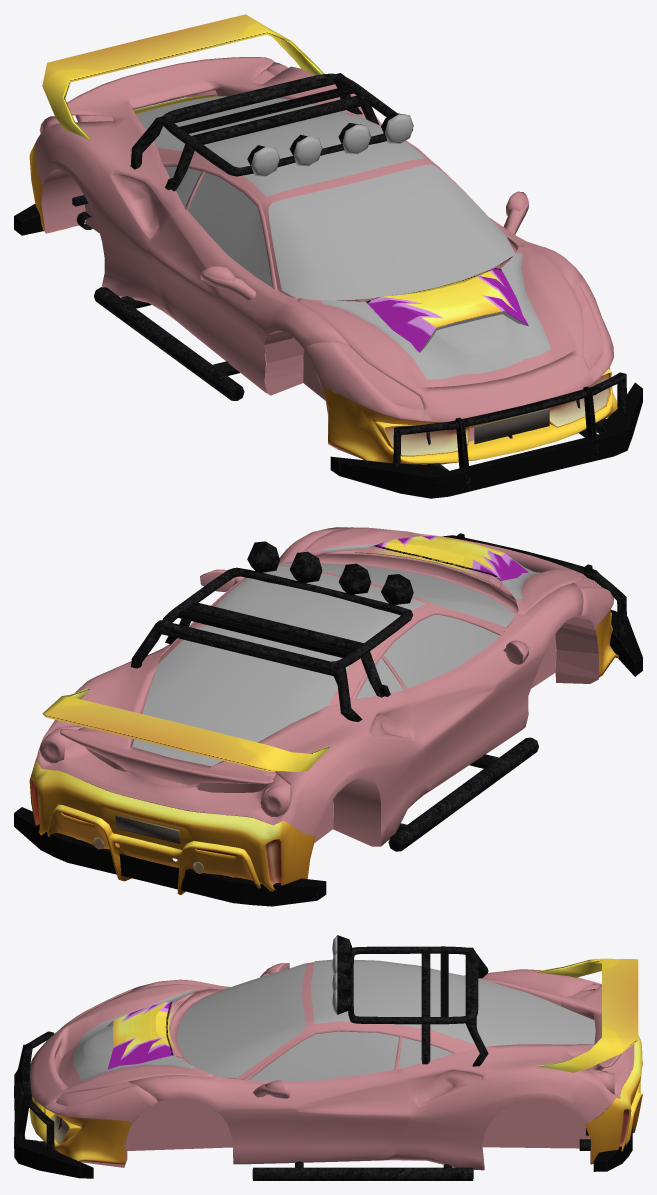
File: Ferrari_488New.fbx
The picture shows the model from 3 angles, top to bottom: view 1: azimuth 30°, elevation 25°; view 2: azimuth 150°, elevation 25°; view 3: azimuth 270°, elevation 25°; orthographic projection. The views are drawn at different scales.
Parts seen in each view (by area): view 1: polySurface10, pasted__pasted__polySurface31, ferrari_carbon2, pasted__pasted__polySurface33, bumperFront, spoiler, exportobj2:ferrari_airtake, bumperBack; view 2: polySurface10, pasted__pasted__polySurface31, bumperBack, pasted__pasted__polySurface33, ferrari_carbon2, spoiler, exportobj2:ferrari_airtake, bumperFront; view 3: polySurface10, pasted__pasted__polySurface31, ferrari_carbon2, spoiler, pasted__pasted__polySurface33, bumperFront, exportobj2:ferrari_airtake, bumperBack.
Part boxes in pixels (bbox=[...]): polySurface10: bbox=[35, 57, 613, 457]; pasted__pasted__polySurface31: bbox=[94, 73, 413, 400]; ferrari_carbon2: bbox=[209, 115, 551, 379]; pasted__pasted__polySurface33: bbox=[14, 204, 642, 498]; bumperFront: bbox=[322, 368, 617, 464]; spoiler: bbox=[42, 14, 324, 139]; exportobj2:ferrari_airtake: bbox=[355, 264, 528, 352]; bumperBack: bbox=[29, 94, 218, 233]; polySurface10: bbox=[35, 527, 613, 858]; pasted__pasted__polySurface31: bbox=[130, 541, 538, 851]; bumperBack: bbox=[29, 760, 315, 894]; pasted__pasted__polySurface33: bbox=[14, 533, 642, 906]; ferrari_carbon2: bbox=[215, 543, 540, 642]; spoiler: bbox=[42, 688, 329, 771]; exportobj2:ferrari_airtake: bbox=[355, 536, 528, 587]; bumperFront: bbox=[595, 609, 618, 677]; polySurface10: bbox=[30, 962, 634, 1170]; pasted__pasted__polySurface31: bbox=[252, 935, 488, 1180]; ferrari_carbon2: bbox=[72, 959, 421, 1081]; spoiler: bbox=[537, 958, 638, 1072]; pasted__pasted__polySurface33: bbox=[14, 1031, 632, 1178]; bumperFront: bbox=[29, 1097, 132, 1164]; exportobj2:ferrari_airtake: bbox=[108, 1000, 183, 1069]; bumperBack: bbox=[585, 1035, 642, 1164].
Size of the model in its own units: 226 by 135 by 469.
